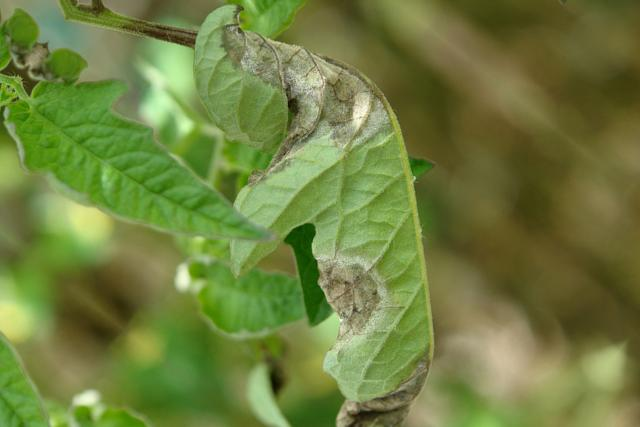Tomato leaf late blight: (25, 0, 587, 427), (0, 12, 350, 375)
